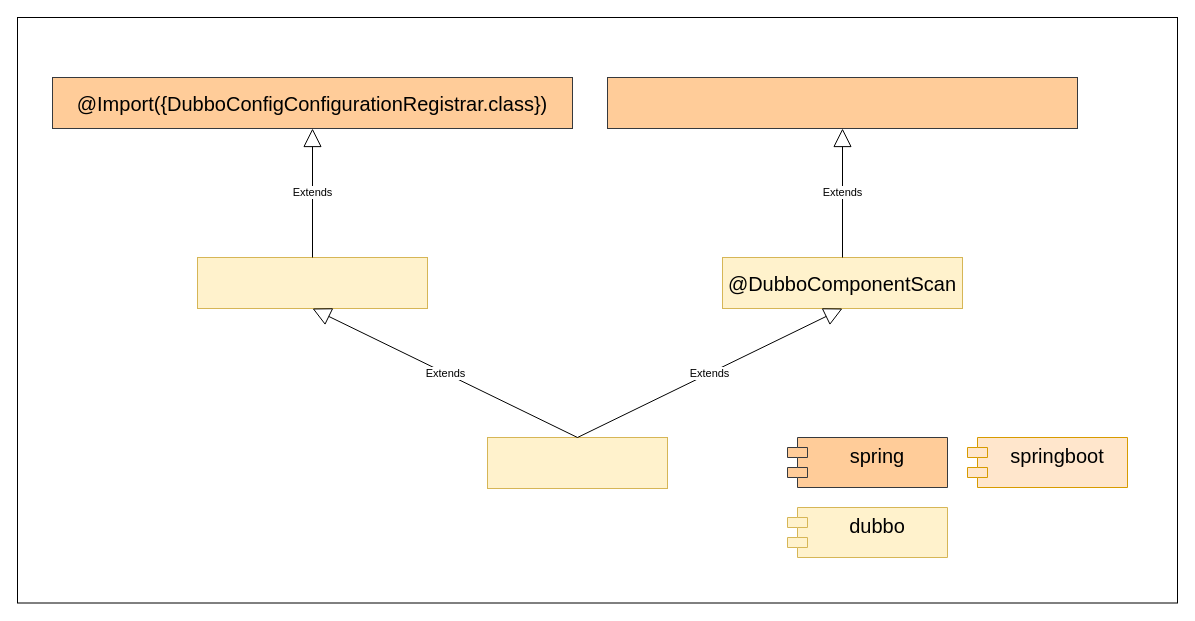
Image size: 1195x621. Some labels were removed from this diagram. Each missing label, with the centre of its shape:
"@EnableDubbo" goes at point (577, 462).
"@EnableDubboConfig" goes at point (312, 282).
"@Import({DubboComponentScanRegistrar.class})" goes at point (842, 102).
